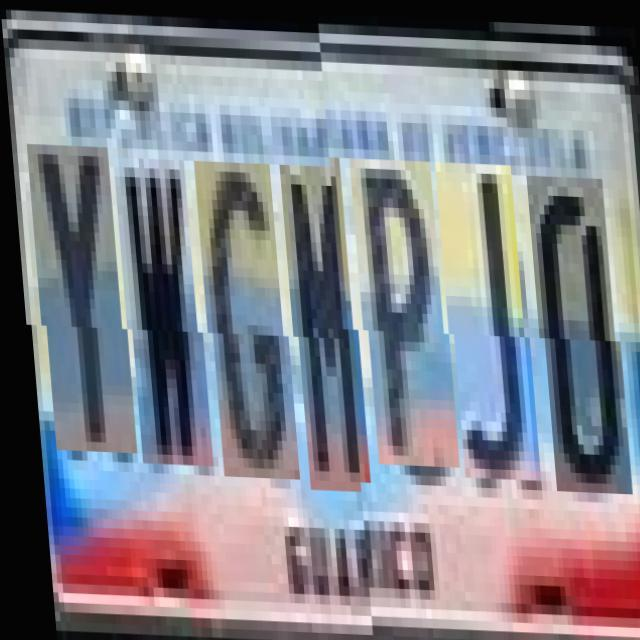0: (530, 181, 626, 498)
G: (196, 160, 292, 478)
J: (438, 168, 534, 486)
M: (282, 162, 363, 489)
P: (352, 165, 452, 473)
W: (116, 156, 206, 464)
Y: (30, 144, 130, 452)
